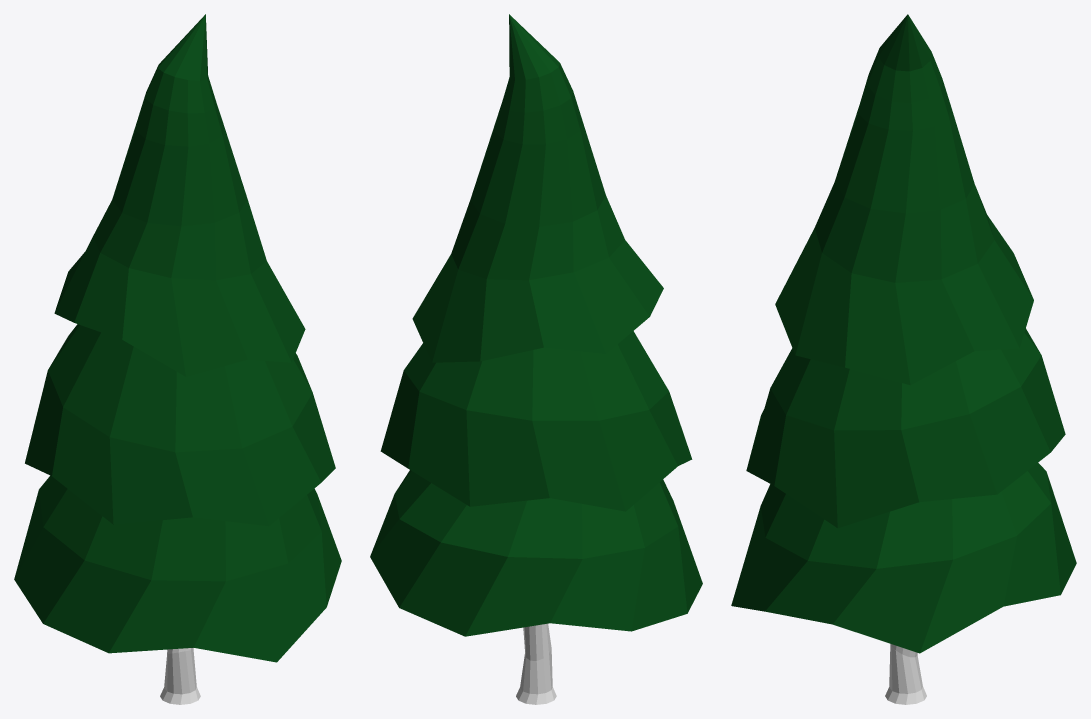
Rendered from pineTree2.fbx.
3 views of the same model, side by side, from view 1: azimuth 30°, elevation 25°; view 2: azimuth 150°, elevation 25°; view 3: azimuth 270°, elevation 25° (orthographic). The views are drawn at different scales.
Visible parts, largest first — view 1: pinetree2; view 2: pinetree2; view 3: pinetree2.
Part boxes in pixels (x1,y1,x2,y2): pinetree2: [14, 14, 341, 704]; pinetree2: [370, 14, 702, 704]; pinetree2: [731, 14, 1076, 704].
Bounding box in the file's own units: 354 × 783 × 353.
